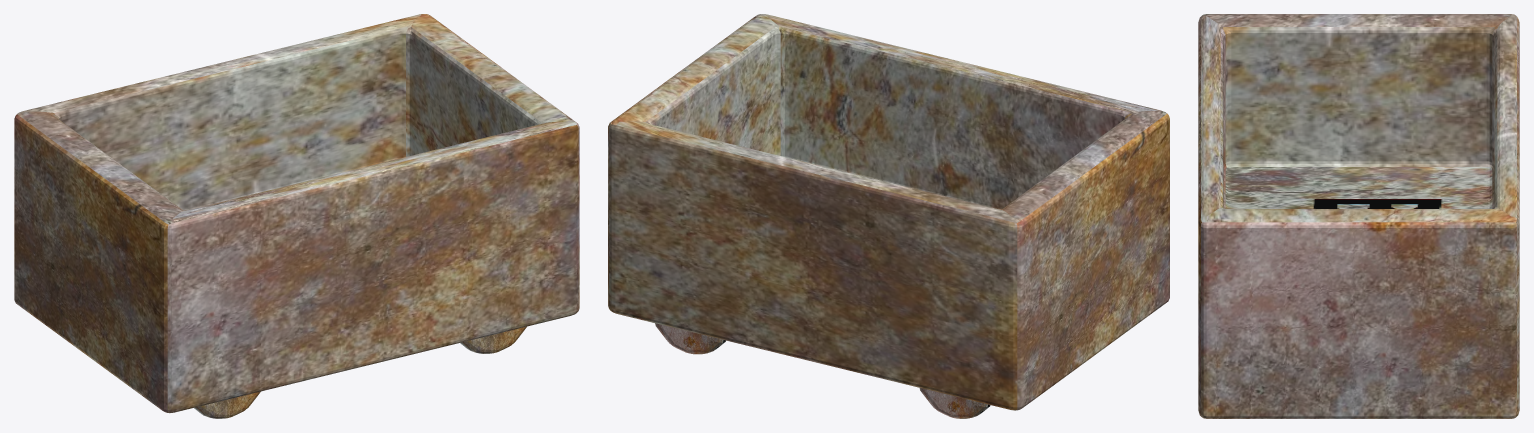
The model's file is minecart.obj.
3 views of the same model, side by side, from view 1: azimuth 30°, elevation 25°; view 2: azimuth 150°, elevation 25°; view 3: azimuth 270°, elevation 25° (orthographic). The views are drawn at different scales.
Visible parts, largest first — view 1: Cube; view 2: Cube; view 3: Cube.
Boxes of the visible parts, left/top/right/bottom form: Cube: left=14, top=14, right=579, bottom=418; Cube: left=608, top=14, right=1169, bottom=418; Cube: left=1198, top=14, right=1519, bottom=418.
Size of the model in its own units: 5.97 by 3.04 by 3.83.
1 material, 1 textured.
